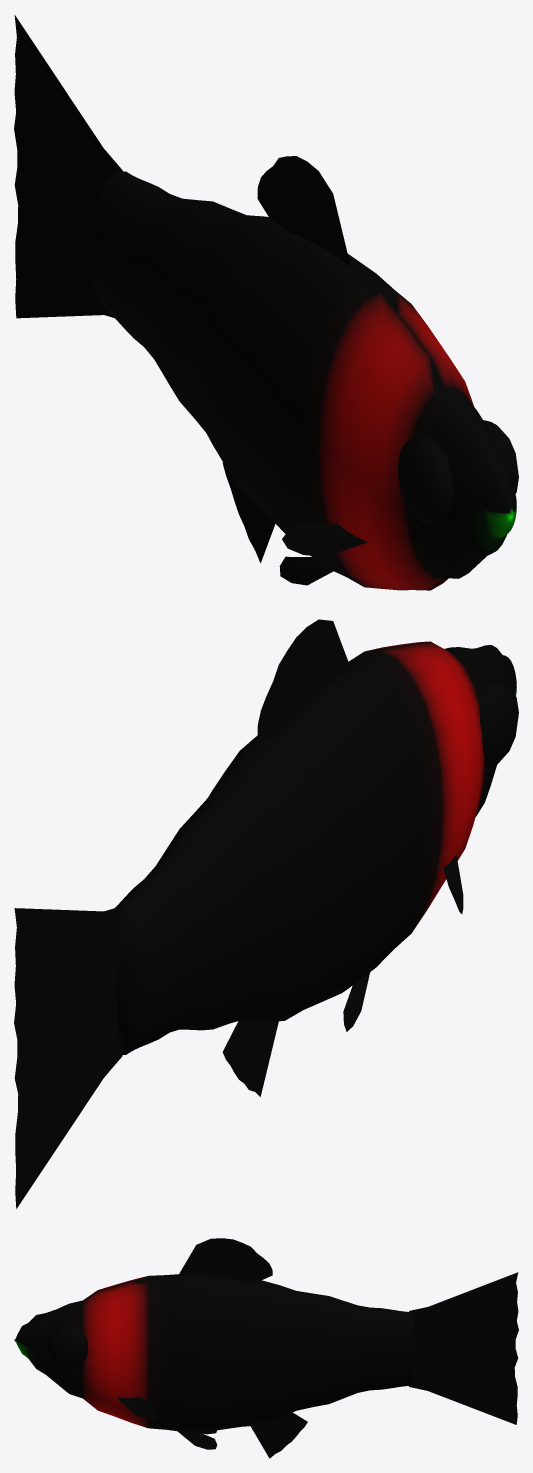
The model's file is platy.glb.
3 renders of one model, top to bottom at view 1: azimuth 30°, elevation 25°; view 2: azimuth 150°, elevation 25°; view 3: azimuth 270°, elevation 25°, orthographic. The views are drawn at different scales.
Parts seen in each view (by area): view 1: platy_body, platy_caudal, platy_dorsal, platy_eyeL, platy_pectoralL, platy_anal, platy_pelvicL, platy_eyeR; view 2: platy_body, platy_caudal, platy_dorsal, platy_eyeL, platy_anal, platy_pelvicL; view 3: platy_body, platy_caudal, platy_dorsal, platy_eyeR, platy_anal, platy_pectoralR, platy_pelvicR.
Boxes of the visible parts, x1,y1,x2,y2 form: platy_body: [88, 171, 516, 590]; platy_caudal: [14, 15, 122, 318]; platy_dorsal: [257, 156, 350, 267]; platy_eyeL: [397, 435, 453, 525]; platy_pectoralL: [282, 521, 367, 556]; platy_anal: [222, 463, 275, 562]; platy_pelvicL: [279, 556, 333, 585]; platy_eyeR: [483, 420, 518, 493]; platy_body: [115, 641, 516, 1055]; platy_caudal: [14, 906, 122, 1208]; platy_dorsal: [257, 619, 350, 738]; platy_eyeL: [478, 680, 518, 767]; platy_anal: [222, 1020, 278, 1096]; platy_pelvicL: [343, 972, 369, 1031]; platy_body: [14, 1274, 414, 1432]; platy_caudal: [409, 1272, 518, 1424]; platy_dorsal: [178, 1238, 272, 1281]; platy_eyeR: [46, 1326, 88, 1368]; platy_anal: [250, 1412, 307, 1458]; platy_pectoralR: [117, 1397, 158, 1419]; platy_pelvicR: [177, 1430, 217, 1449].
Size of the model in its own units: 0.26 by 0.61 by 1.27.
